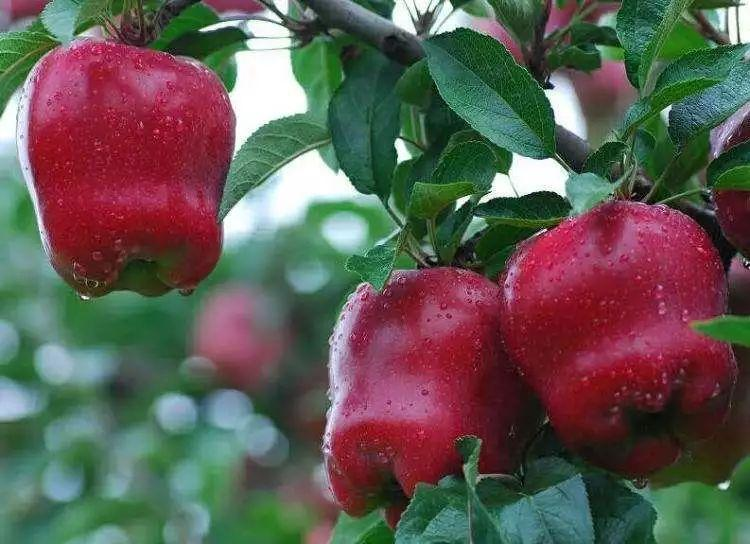apple: (501, 197, 741, 471), (11, 46, 237, 310), (323, 266, 542, 535)
